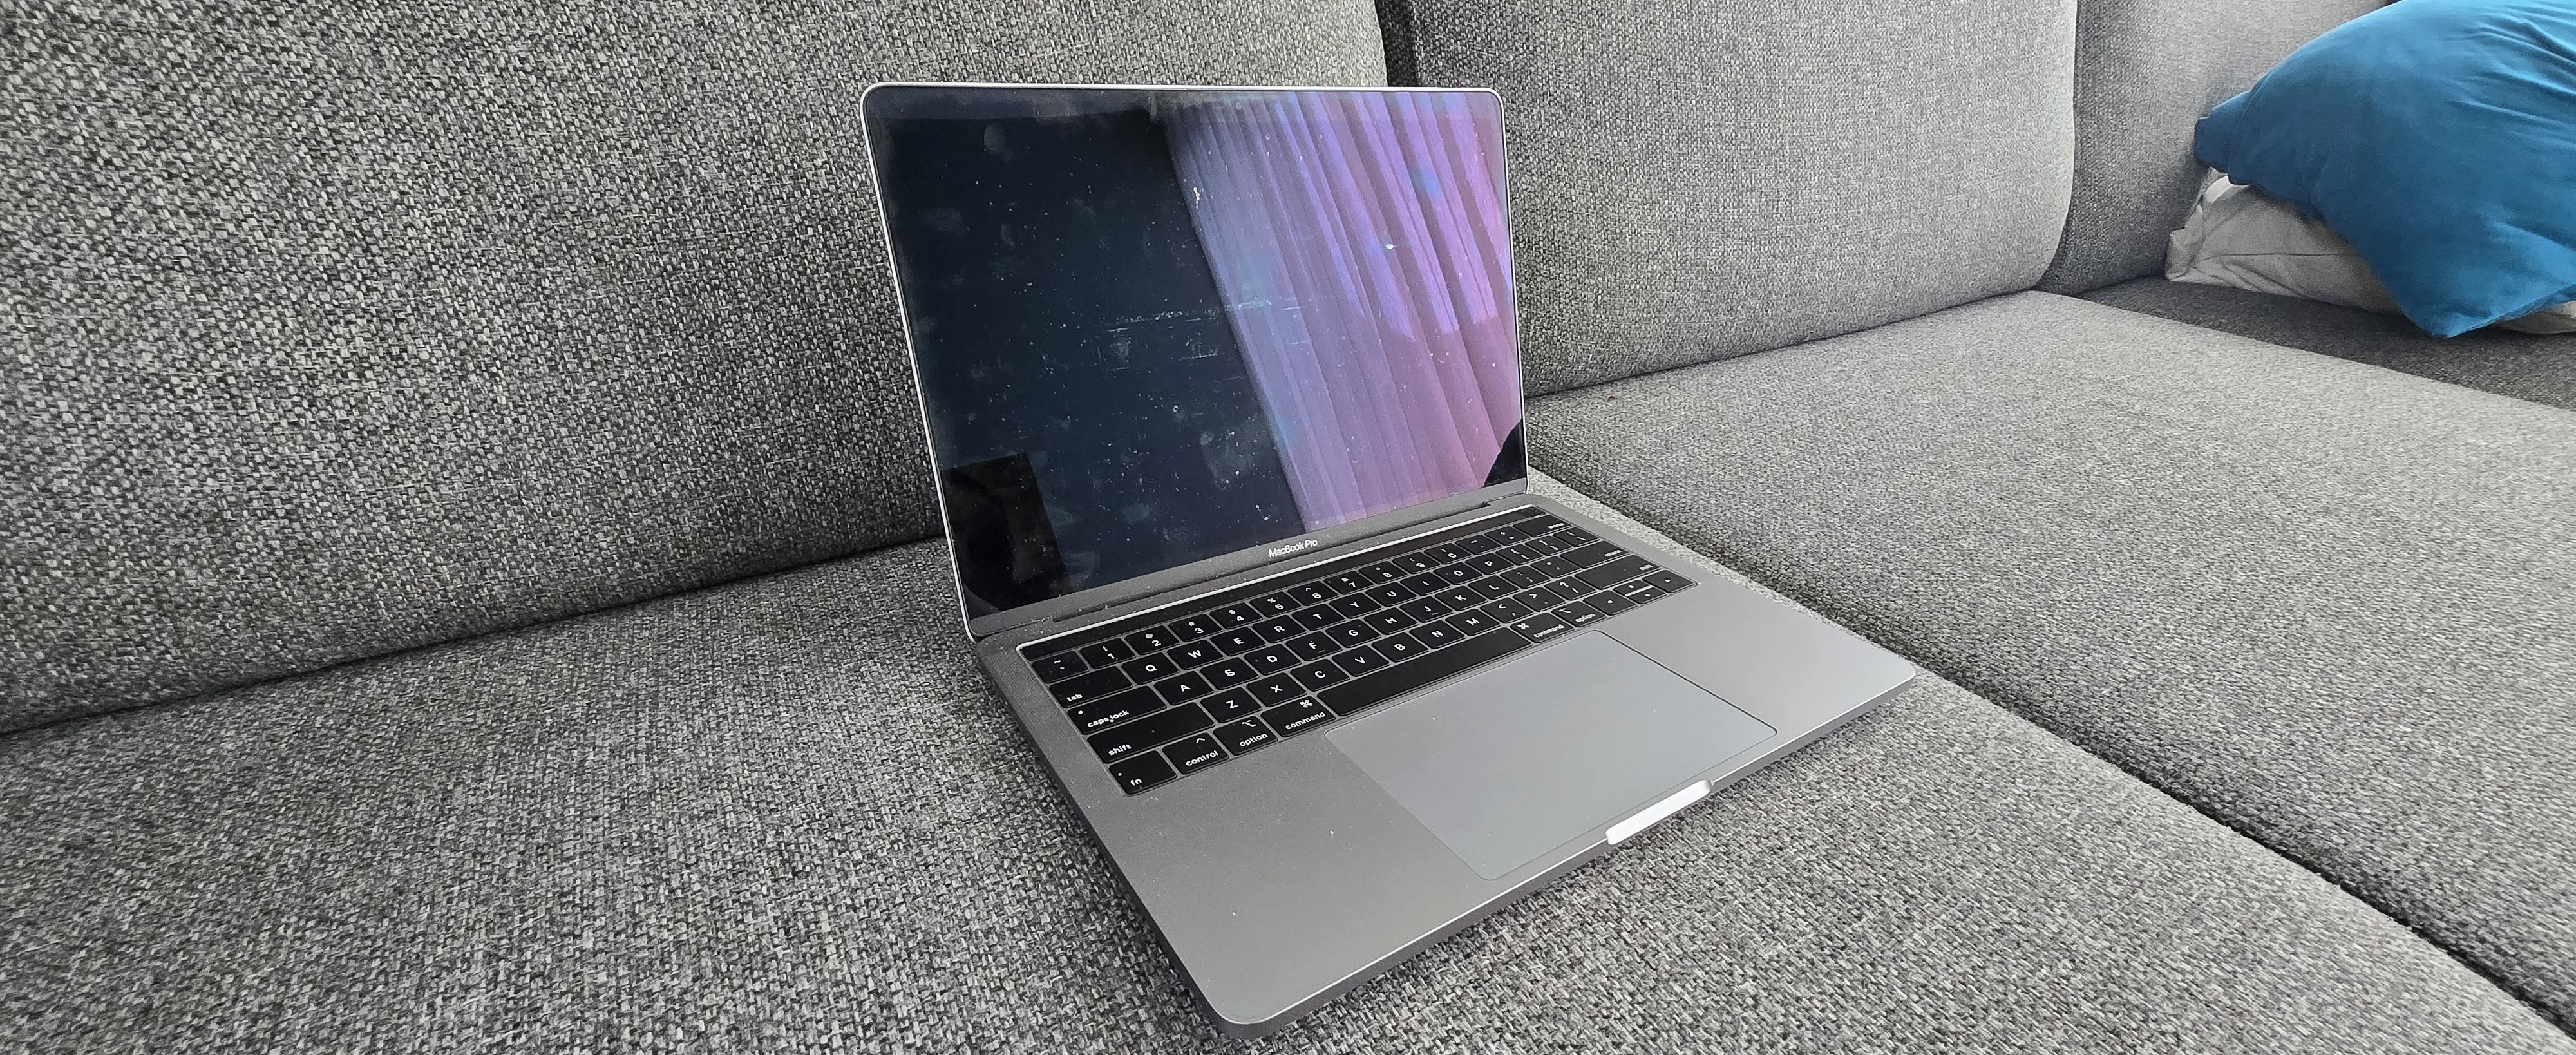laptop: (785, 56, 2027, 1055)
